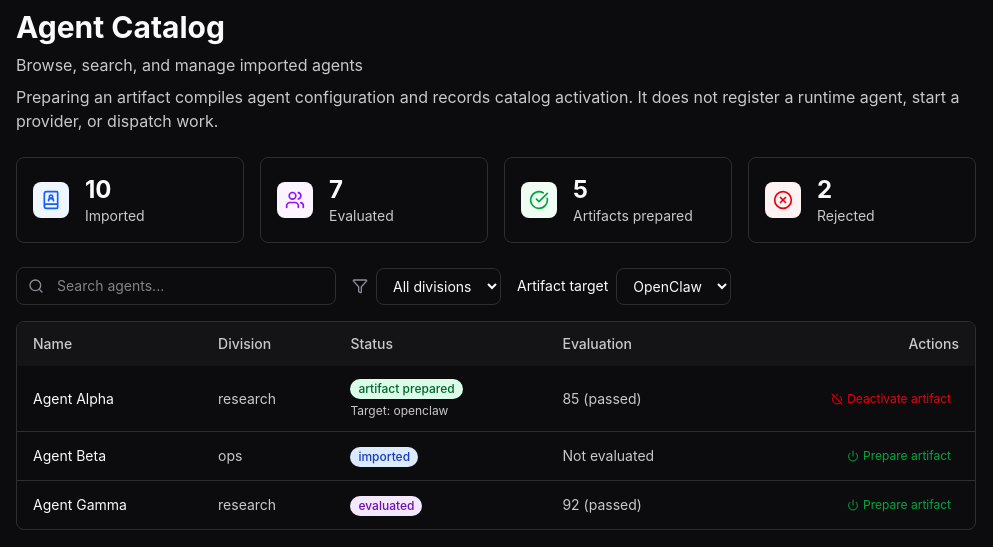
Scenario: AgentCatalogPage › clears search and retains all division options through filtered results
Expected: the text "Agent Beta" is shown, [17,432,202,480]
Type "Alpha" into the field labelled "Search agents" at (176, 286), box [16,267,336,305]
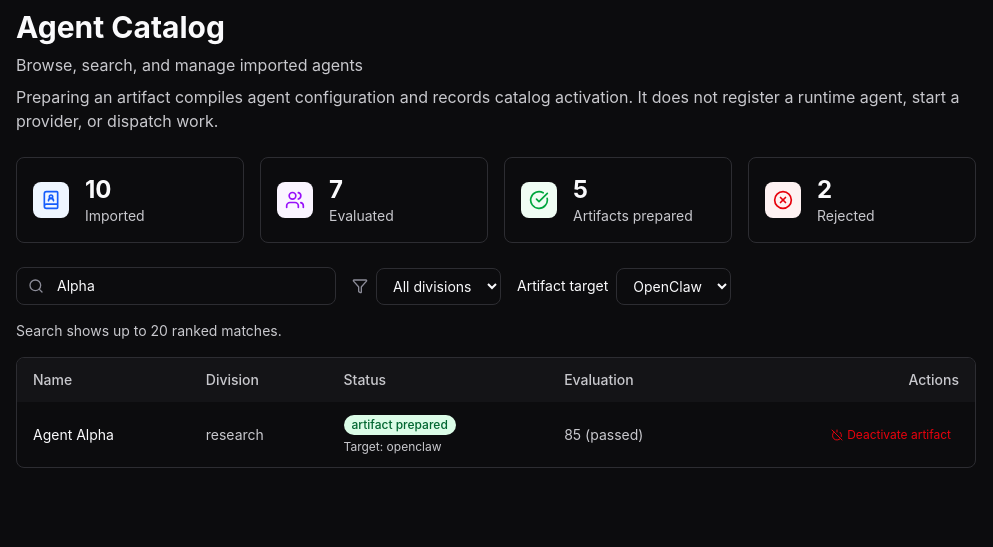
Result: the text "Agent Beta" is gone
Clear the field named "Search agents" at (176, 286), box [16,267,336,305]
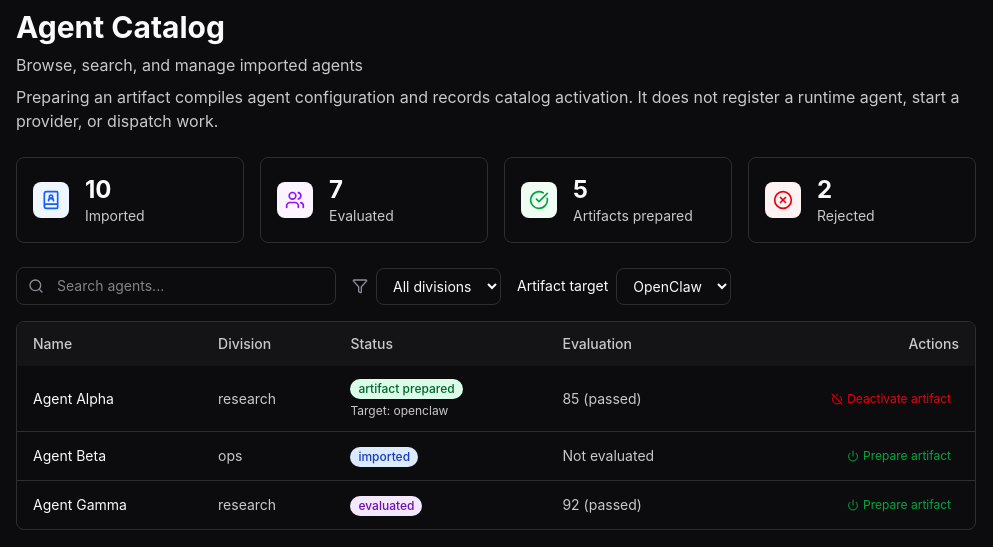
Result: the text "Agent Beta" is shown at [17,432,202,480]
